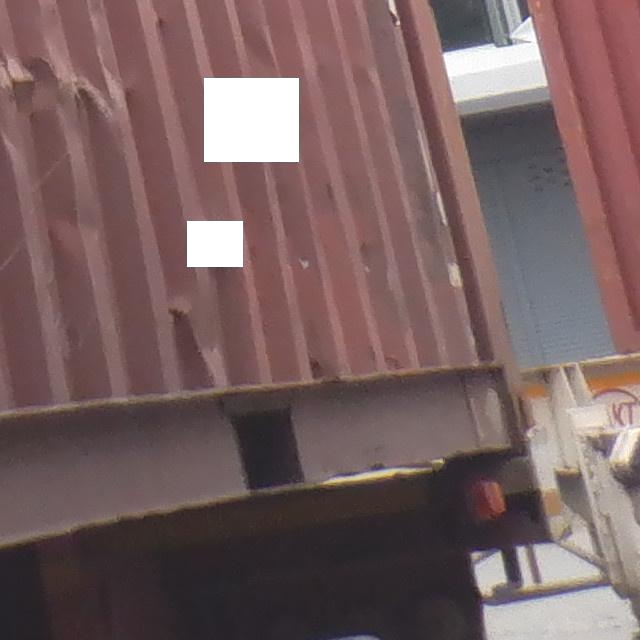Dent: (162, 285, 264, 384)
